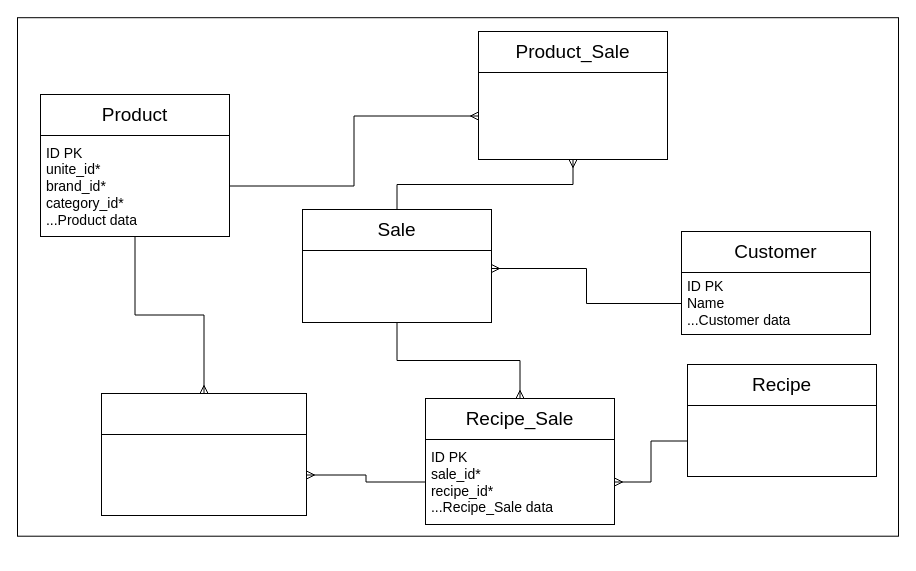
This 916x571 diagram has some shape labels left out. The centre of each missing label's shape, as x and y in pixels:
ID PK customer_id* ...Sale data: pixel 397 286
ID PK Name ...Recipe data: pixel 781 440
ID PK product_id* sale_id* ...product_sale data: pixel 573 116
ID PK recipe_sale_id* product_id* ...Sale_Gen_Prod data: pixel 203 475
Recipe_Sale_Product: pixel 203 413
